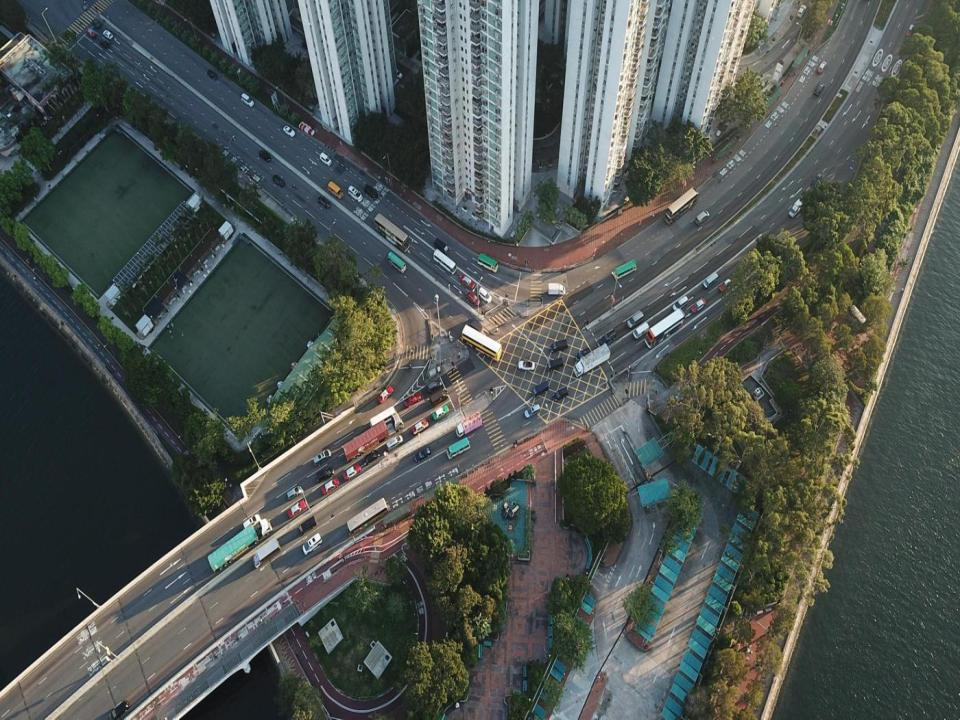bus: (461, 323, 502, 362), (644, 309, 685, 348), (346, 497, 388, 535), (374, 212, 410, 251), (664, 186, 699, 226), (369, 406, 398, 430), (434, 249, 458, 273), (446, 437, 470, 458), (614, 260, 636, 280), (477, 253, 499, 272), (388, 251, 406, 273)
car: (302, 532, 322, 554), (286, 500, 306, 519), (321, 477, 340, 495), (342, 463, 361, 481), (109, 701, 129, 718), (413, 446, 432, 463), (377, 386, 394, 404), (243, 513, 260, 530), (410, 419, 428, 435), (403, 392, 422, 407), (433, 404, 449, 420), (466, 318, 483, 333), (599, 330, 616, 345), (690, 298, 706, 313), (460, 274, 475, 289), (286, 485, 302, 499), (427, 379, 443, 393), (718, 278, 734, 292), (518, 359, 536, 371), (466, 292, 481, 306), (478, 287, 492, 302), (319, 152, 332, 166), (258, 150, 272, 162), (813, 82, 824, 97), (272, 174, 284, 187), (390, 66, 403, 78), (318, 195, 330, 208), (811, 173, 822, 187), (283, 125, 296, 136), (85, 27, 97, 38), (91, 18, 102, 30), (796, 5, 806, 18), (816, 61, 826, 74), (906, 24, 915, 38), (102, 29, 113, 40), (206, 70, 218, 80), (99, 38, 109, 48)
truck: (207, 518, 272, 573), (342, 415, 404, 462), (573, 344, 610, 378), (252, 538, 280, 568), (455, 410, 482, 439), (547, 282, 566, 295)
van: (299, 514, 318, 535), (430, 389, 448, 408), (316, 466, 334, 483), (702, 272, 719, 290), (327, 181, 344, 198), (627, 311, 644, 328), (313, 450, 331, 466), (550, 338, 568, 354), (788, 198, 802, 218), (633, 322, 649, 339), (672, 296, 688, 312), (546, 357, 564, 371), (695, 210, 710, 226), (386, 436, 403, 450), (434, 238, 449, 253), (365, 450, 380, 465), (348, 185, 362, 201), (524, 404, 540, 418), (365, 184, 378, 201), (532, 382, 549, 395), (553, 388, 569, 401), (575, 348, 591, 361), (240, 92, 253, 107)
